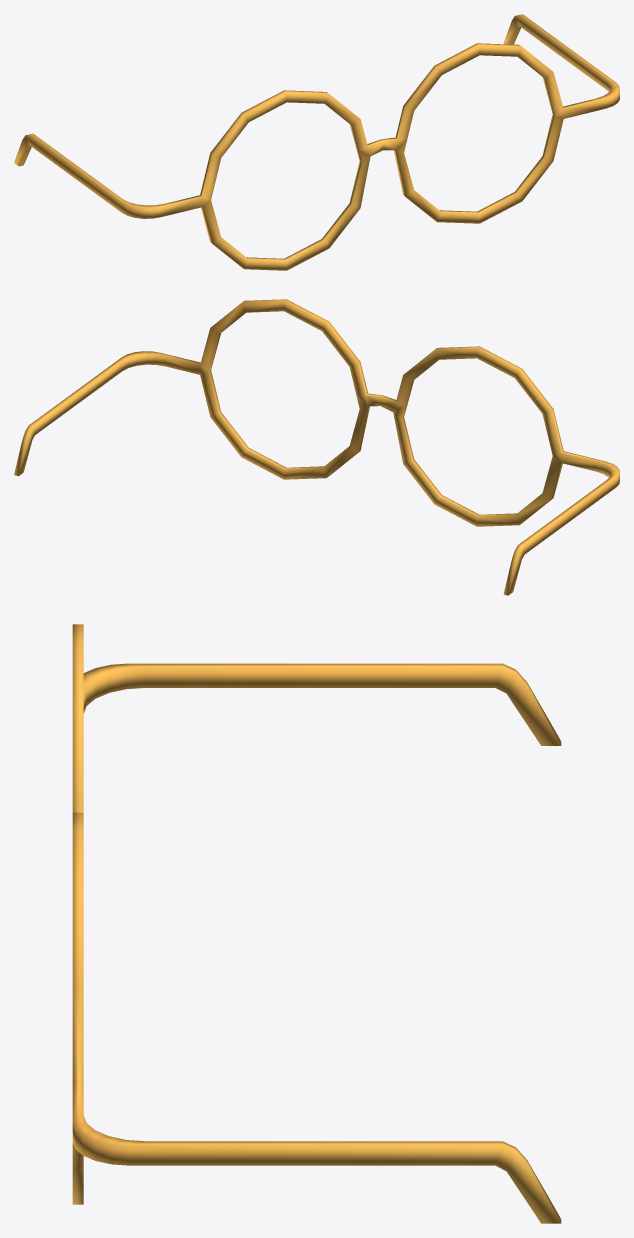
File: Glasses.glb
3 renders of one model, top to bottom at view 1: azimuth 30°, elevation 25°; view 2: azimuth 150°, elevation 25°; view 3: azimuth 270°, elevation 25°, orthographic. The views are drawn at different scales.
Parts seen in each view (by area): view 1: Circle.004; view 2: Circle.004; view 3: Circle.004.
Boxes of the visible parts, <box> form: Circle.004: <box>14,14,619,270</box>; Circle.004: <box>14,299,619,595</box>; Circle.004: <box>72,624,561,1223</box>.
Bounding box in the file's own units: 1.39 × 0.4804 × 0.5963.
Materials: 1 (1 with a texture image).
